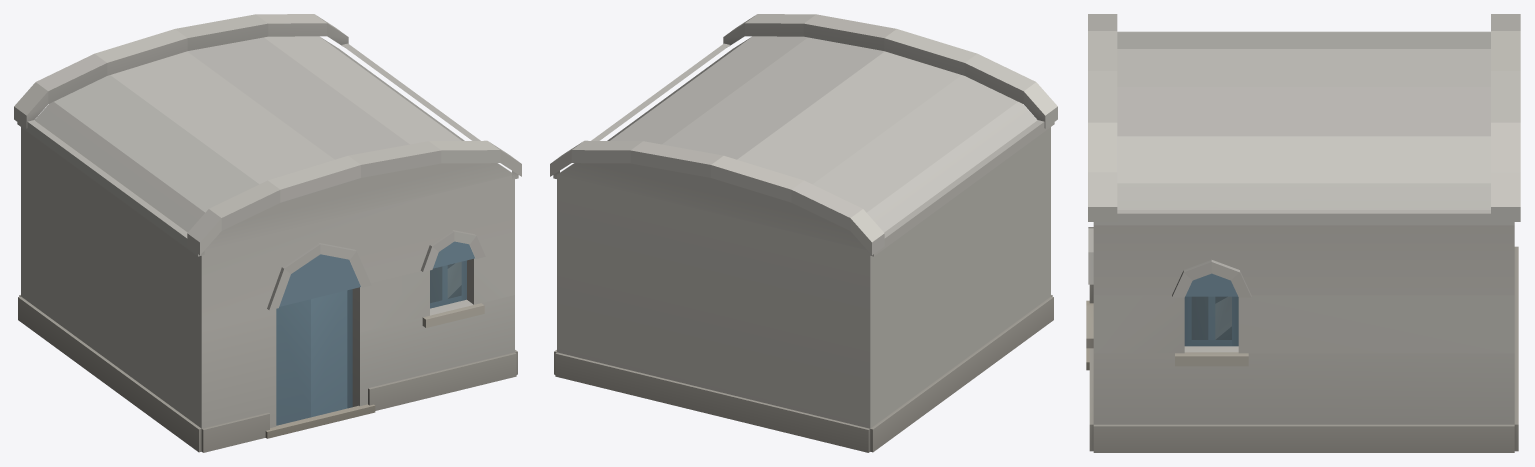
The model's file is cave1.lod1.glb.
3 renders of one model, left to right at view 1: azimuth 30°, elevation 25°; view 2: azimuth 150°, elevation 25°; view 3: azimuth 270°, elevation 25°, orthographic. The views are drawn at different scales.
Size of the model in its own units: 4.41 by 3.27 by 4.41.
